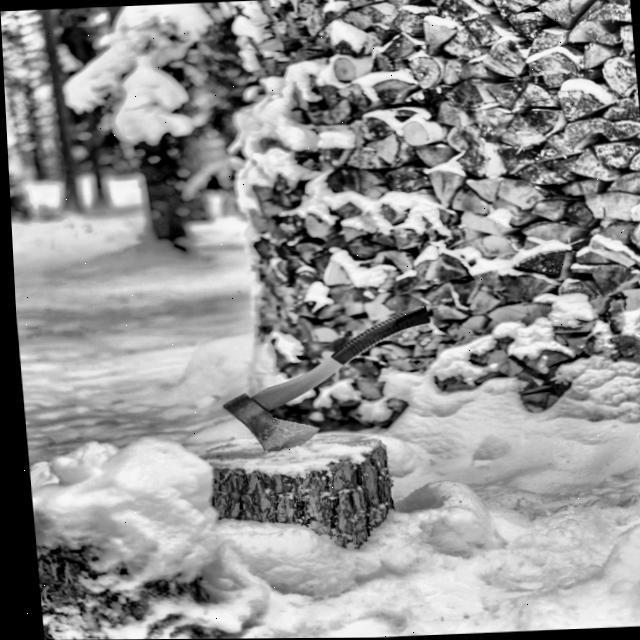kapak: (204, 283, 462, 459)
